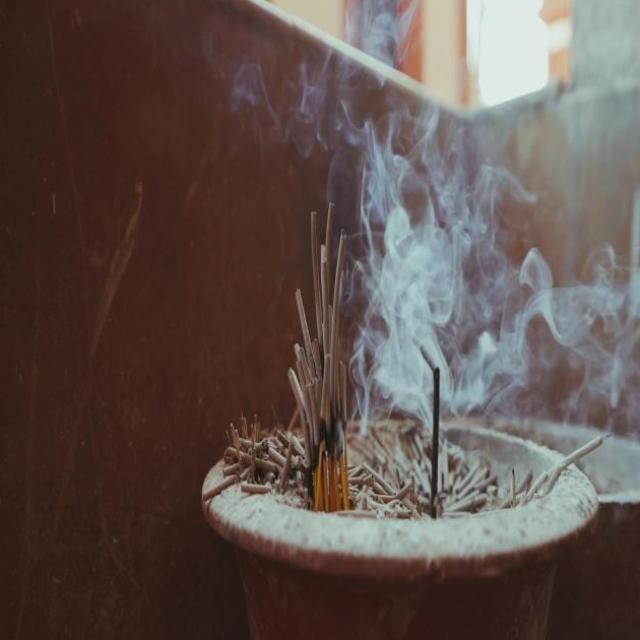fire: (227, 0, 640, 437)
